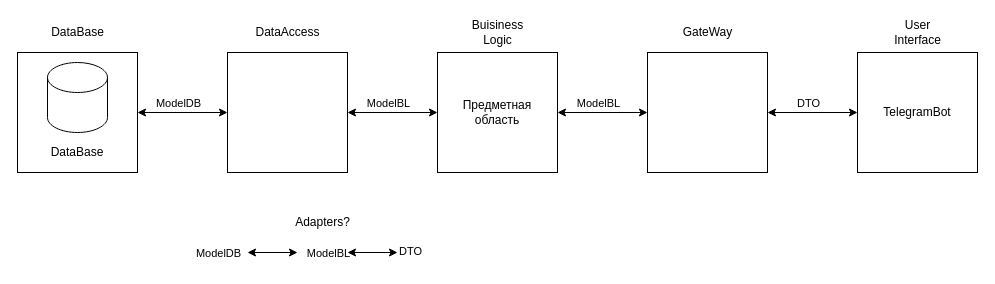
Image size: 995x284. Some labels were removed from this diagram. The box of each missing label's shape, as (x1, y1, x2, y2) in pixels:
Controller: (646, 52, 768, 172)
Repository: (226, 52, 348, 172)
